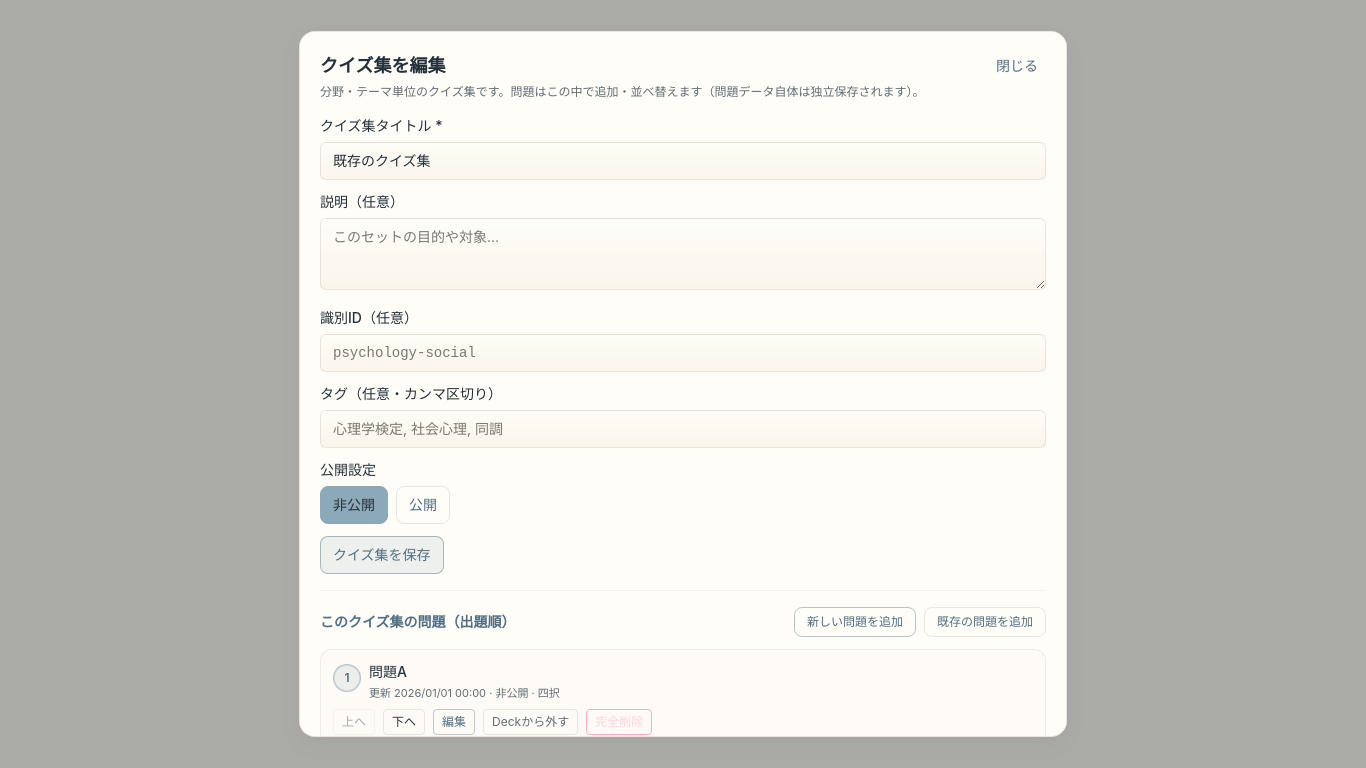
Test: QuizDeckFormModal membership intents › 並び替えの競合では最新 Deck を読み直す
Click the button with aria-label "問題 1 を下へ".
click(404, 722)  # box [383,710,425,736]
(page scrolled)
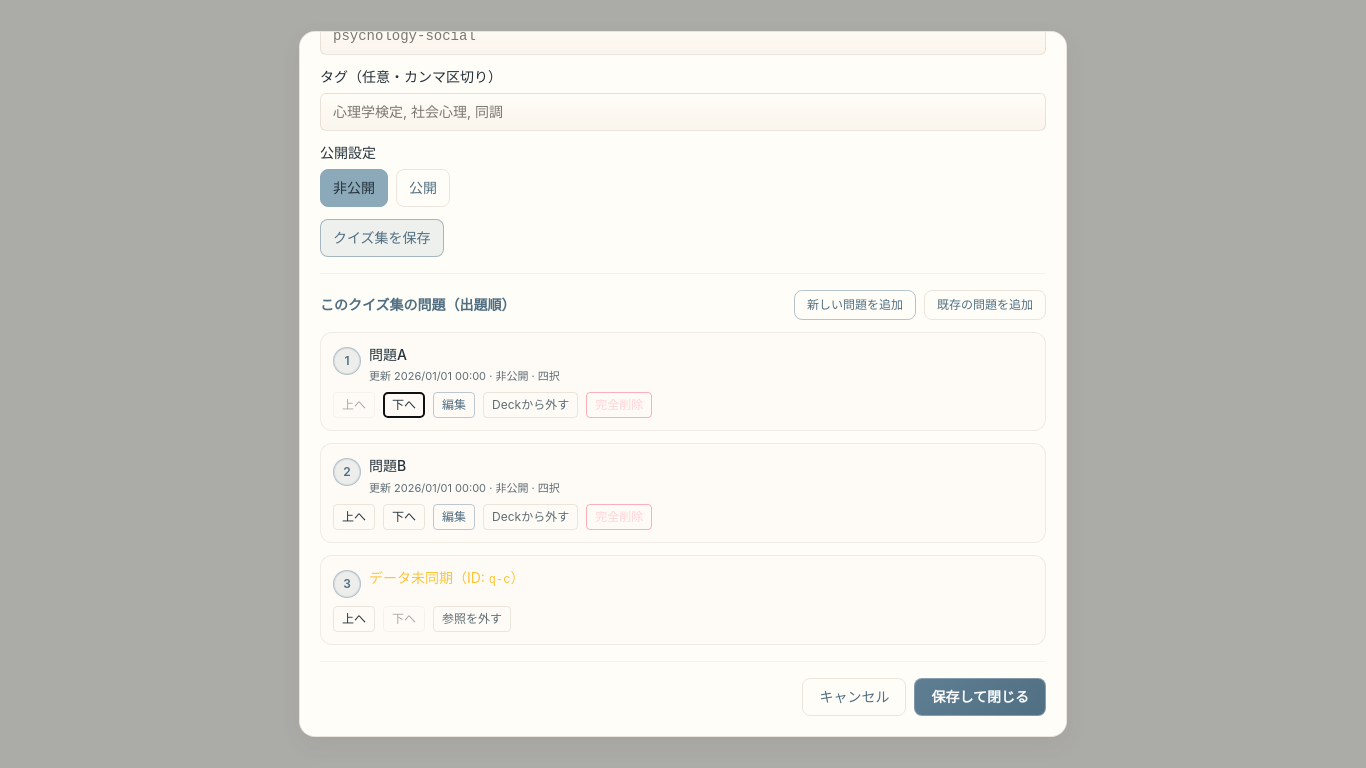
Now the text "q-c" is shown, box [489,573,510,587]
